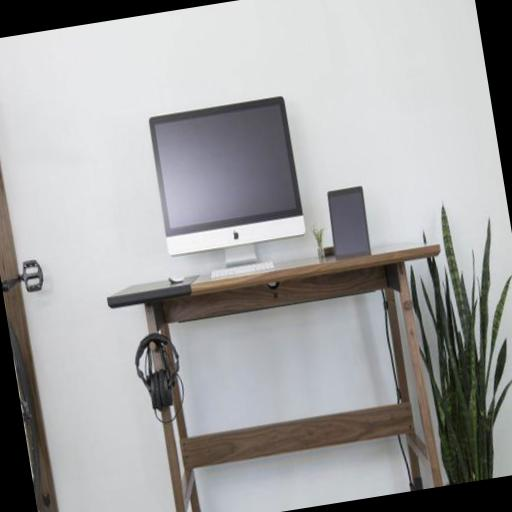desk: (105, 234, 476, 512)
wall: (0, 0, 512, 512)
